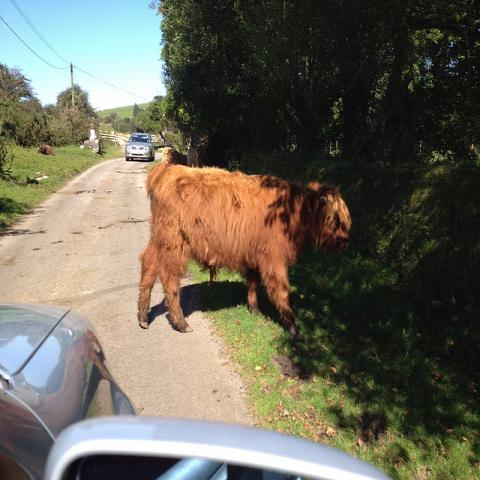car: (1, 302, 137, 474), (126, 132, 156, 162)
